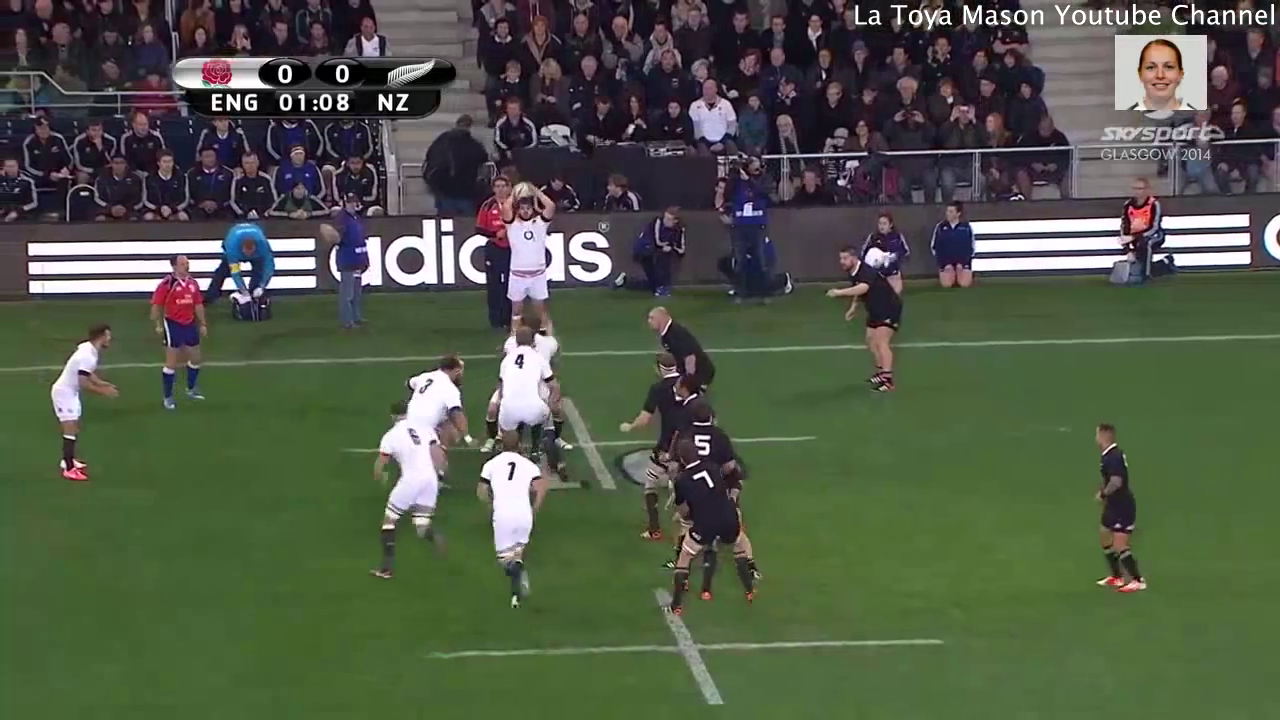10_metre: (415, 586, 940, 708), (345, 393, 821, 494)
ball: (512, 173, 539, 200)
lineout: (392, 140, 800, 668)
player: (673, 439, 765, 616), (361, 401, 444, 589), (605, 359, 680, 549), (1078, 416, 1152, 597), (826, 245, 909, 400), (147, 251, 221, 414), (481, 433, 546, 612), (50, 319, 119, 483), (495, 176, 557, 312), (489, 328, 556, 433), (645, 305, 722, 385), (399, 352, 469, 424), (660, 404, 741, 453), (511, 308, 560, 353), (661, 377, 713, 408)
